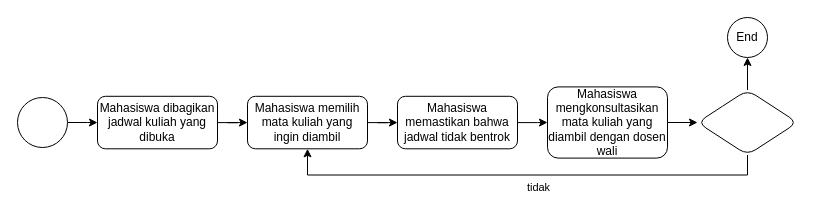
Image size: 815x211. Some labels were removed from this diagram. The shapes that lost their labels are listed below. From the top down, each one's box as (x1, y1, x2, y2) in pixels, then its label:
(16, 96, 68, 148): Start
(696, 89, 798, 155): jadwal sudah benar?
